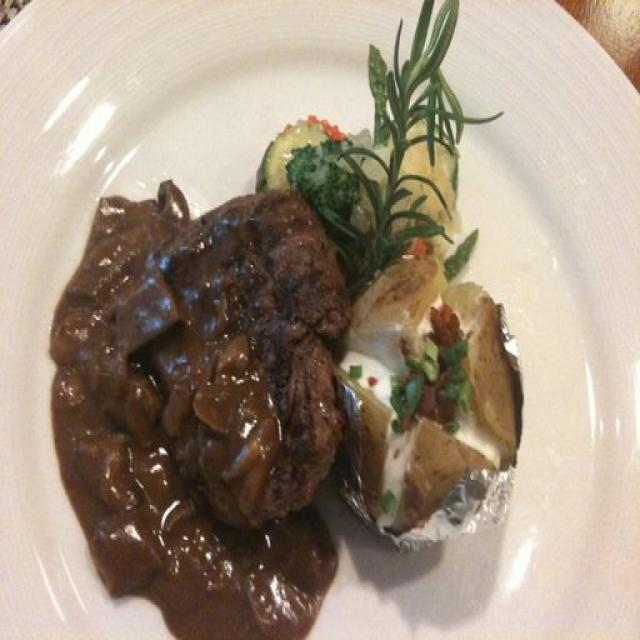Steak: (74, 163, 363, 607)
